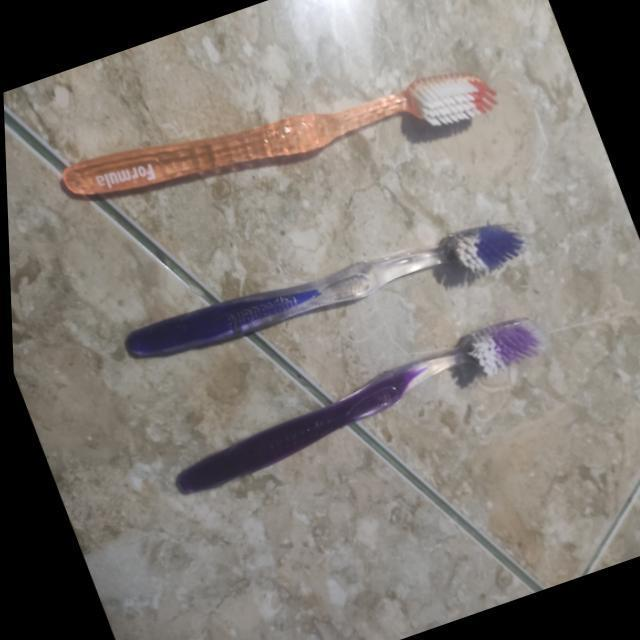toothbrush: (34, 0, 514, 274), (74, 166, 542, 412), (126, 302, 570, 514)
